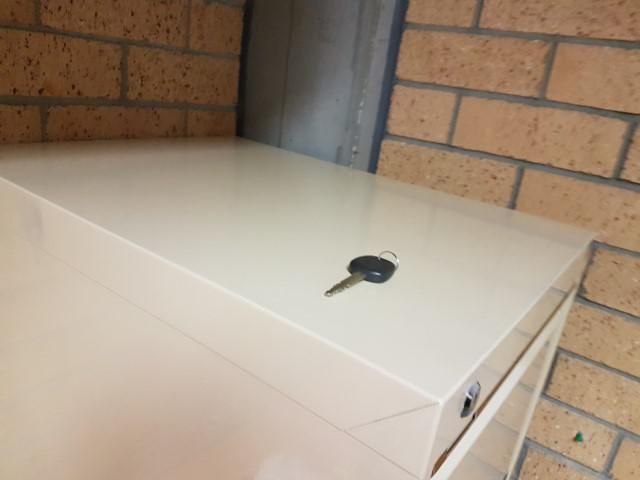key: (326, 255, 395, 297)
